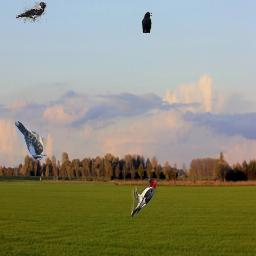Crow: (16, 2, 47, 23), (142, 12, 152, 33)
Woodpecker: (15, 121, 47, 161), (131, 178, 157, 218)
